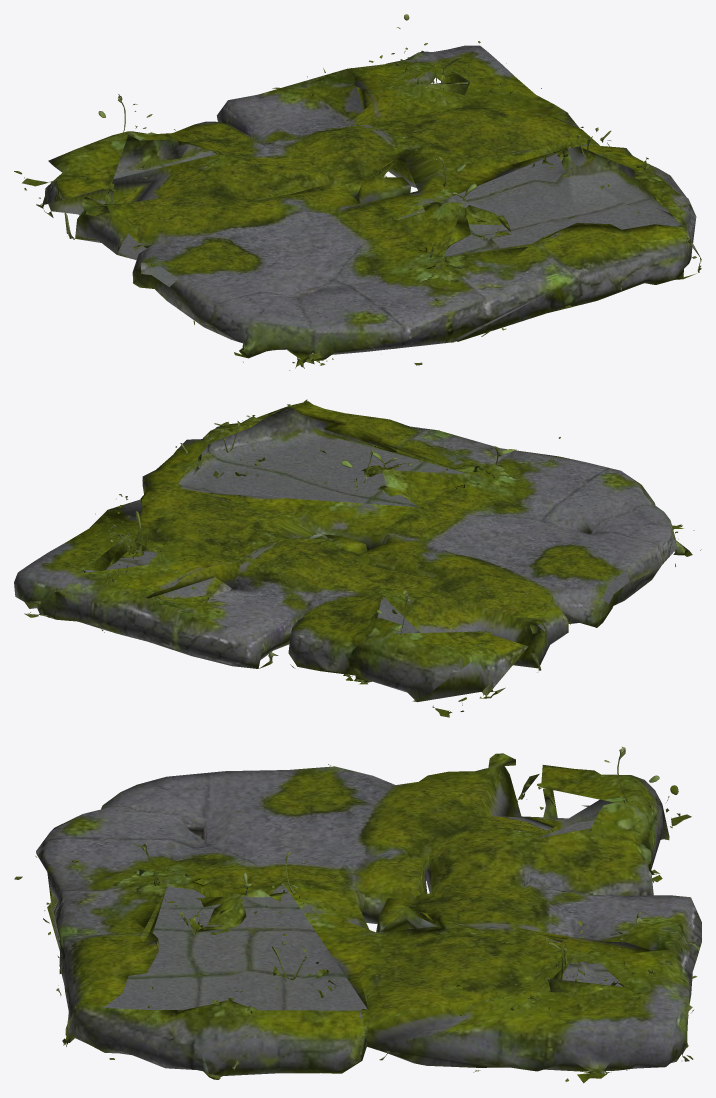
Rendered from obj_006_rtp.glb.
3 renders of one model, top to bottom at view 1: azimuth 30°, elevation 25°; view 2: azimuth 150°, elevation 25°; view 3: azimuth 270°, elevation 25°, orthographic. The views are drawn at different scales.
Parts seen in each view (by area): view 1: tripo_node_84e8973f-ac3c-4573-95a4-efd465beb582; view 2: tripo_node_84e8973f-ac3c-4573-95a4-efd465beb582; view 3: tripo_node_84e8973f-ac3c-4573-95a4-efd465beb582.
Part boxes in pixels (left/top/right/bottom): tripo_node_84e8973f-ac3c-4573-95a4-efd465beb582: left=14, top=14, right=701, bottom=370; tripo_node_84e8973f-ac3c-4573-95a4-efd465beb582: left=14, top=399, right=701, bottom=717; tripo_node_84e8973f-ac3c-4573-95a4-efd465beb582: left=14, top=747, right=701, bottom=1083.
Size of the model in its own units: 0.9498 by 0.1715 by 0.9577.
Materials: 1 (1 with a texture image).
